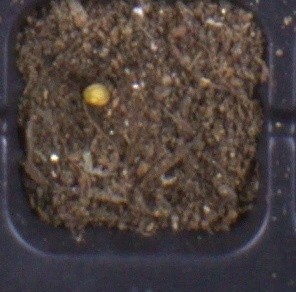chilli seed: (83, 83, 111, 106)
